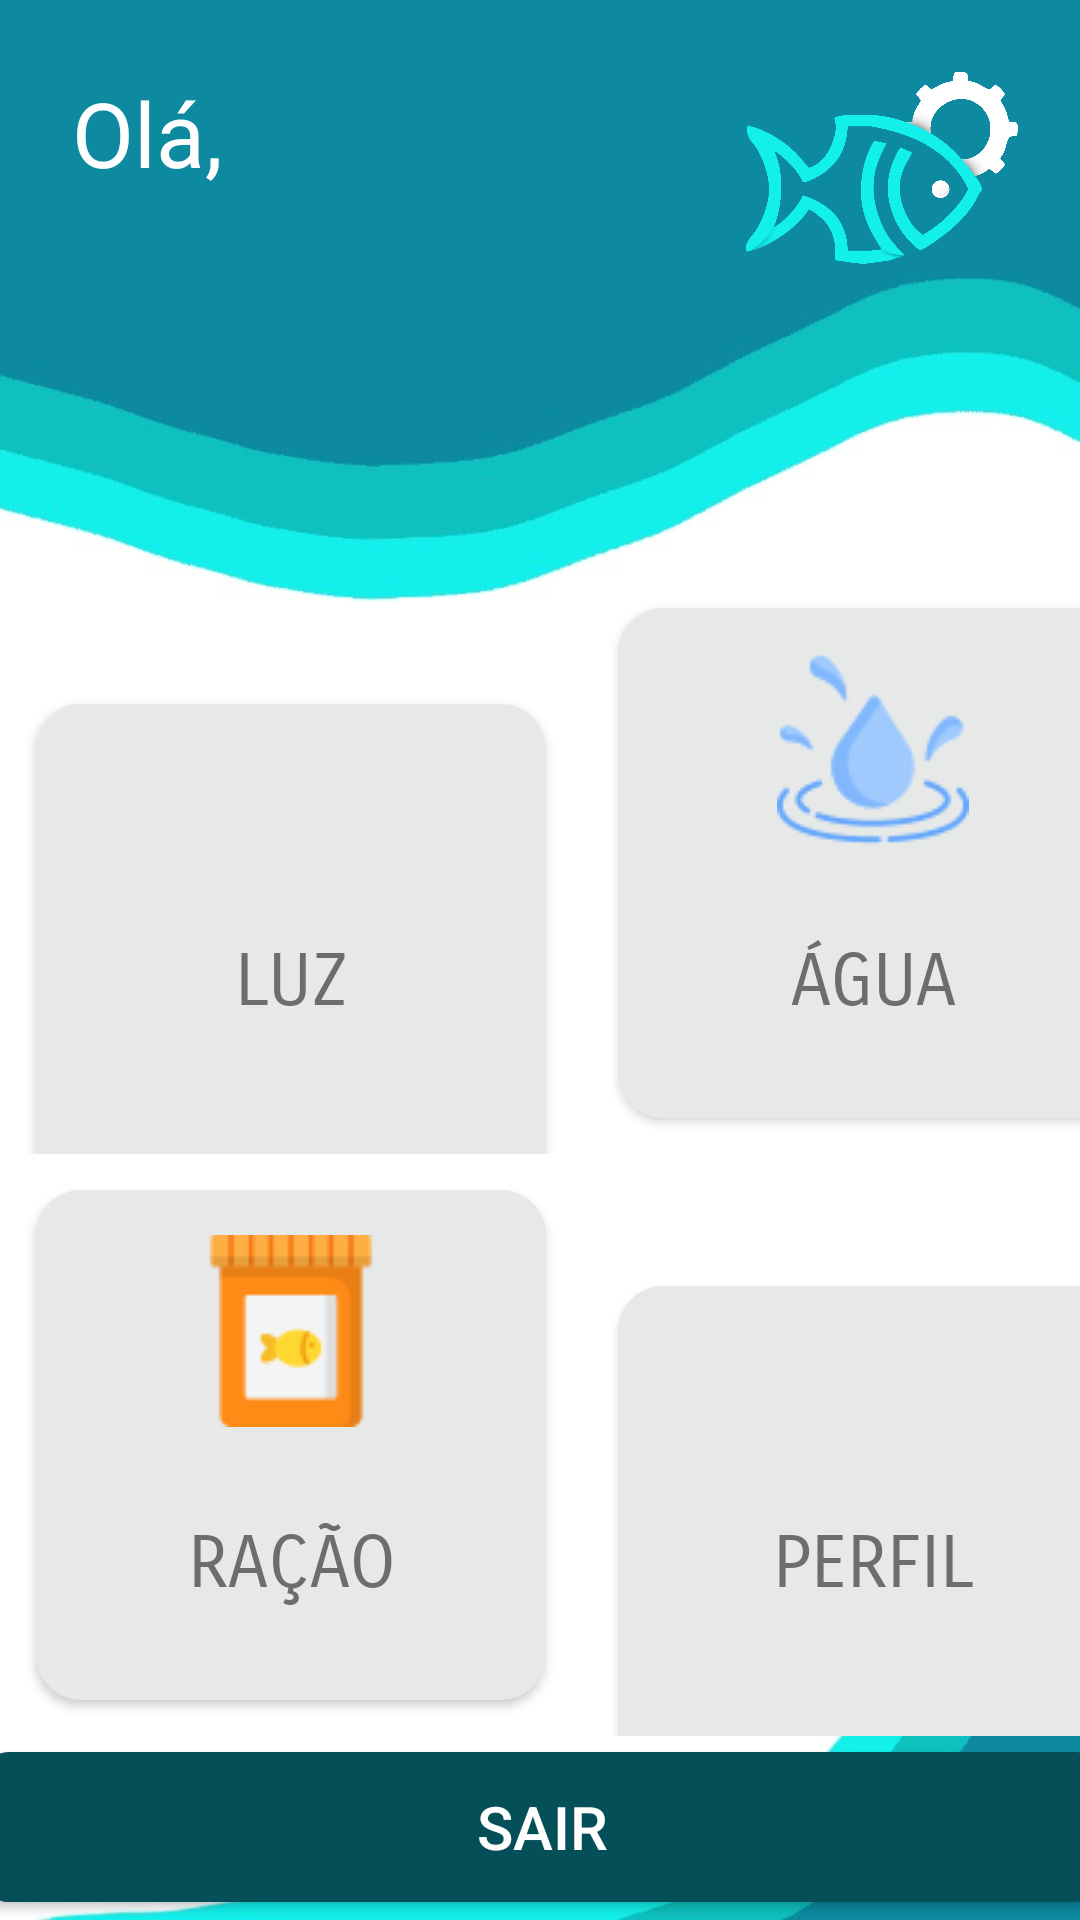

Screen size 1080×1920. Icon name, then its box in pixels as (x1, y1, x2, y2):
peixin transparente: (746, 72, 1018, 264)
